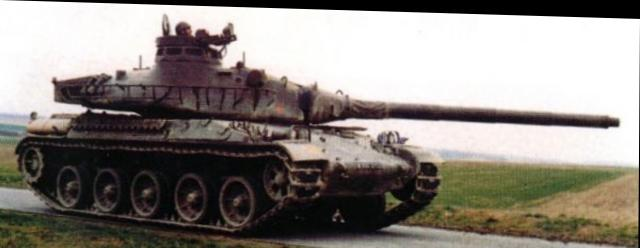tank: (12, 18, 442, 240)
